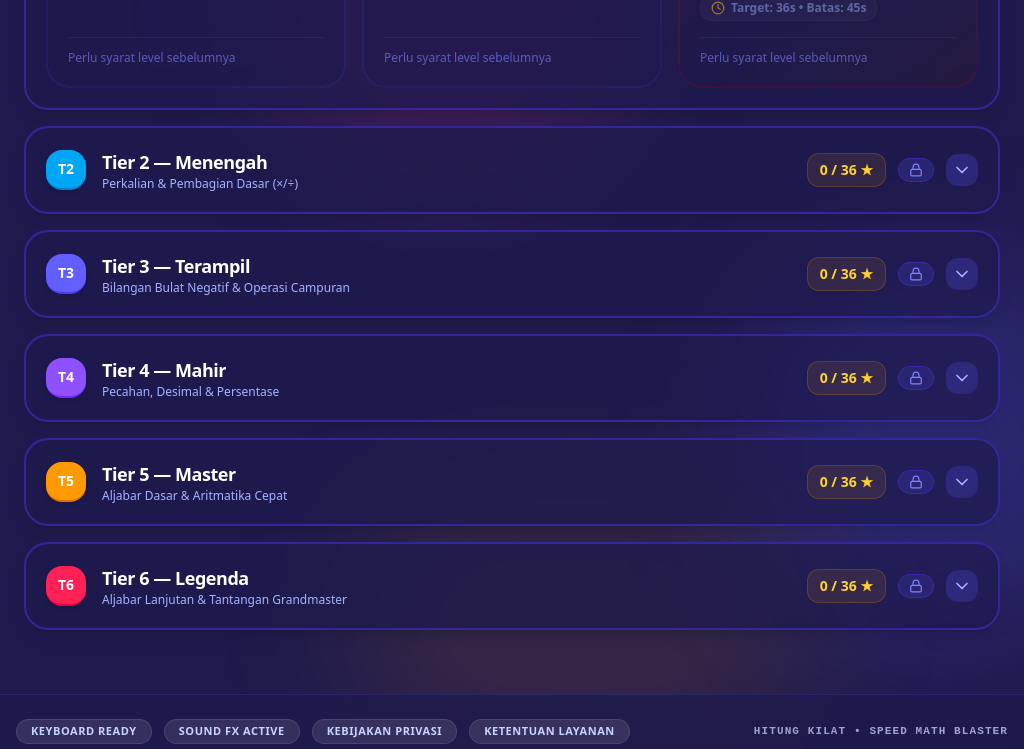
Test: Privacy Routing Integration › navigates to /privacy-policy when clicking footer link
The width and height of the screenshot is (1024, 749).
(page scrolled)
Click the button "Kebijakan Privasi". click: (384, 731)
box: [312, 719, 457, 744]
(page scrolled)
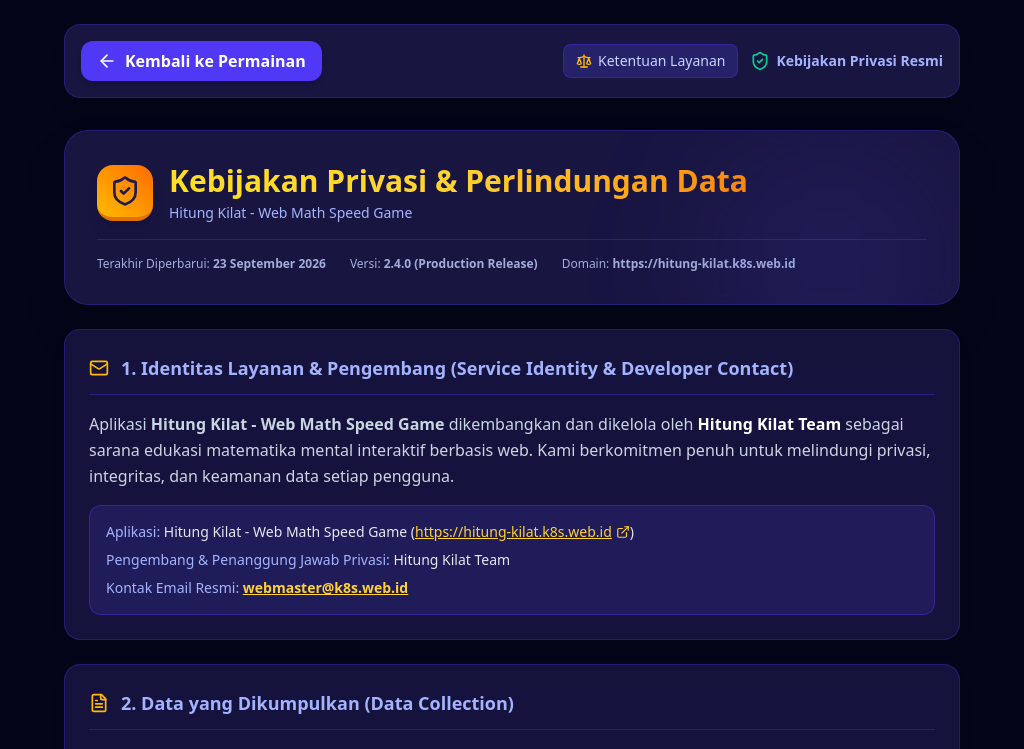
Expected: the heading "Kebijakan Privasi & Perlindungan Data" is shown, [169, 163, 748, 199]
